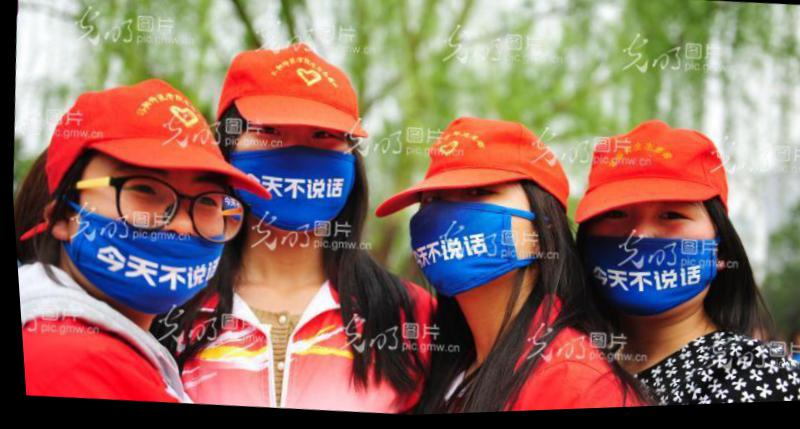OK: (397, 173, 533, 305), (231, 113, 362, 240)
WRONG: (57, 143, 242, 325), (571, 193, 709, 328)
